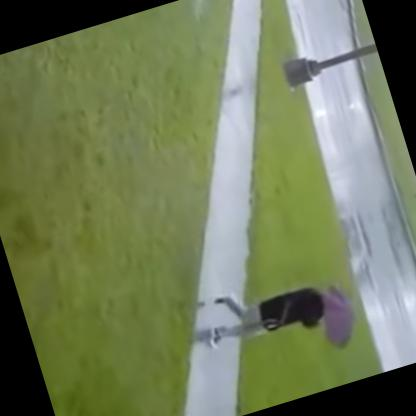Human Body: (190, 251, 371, 390)
